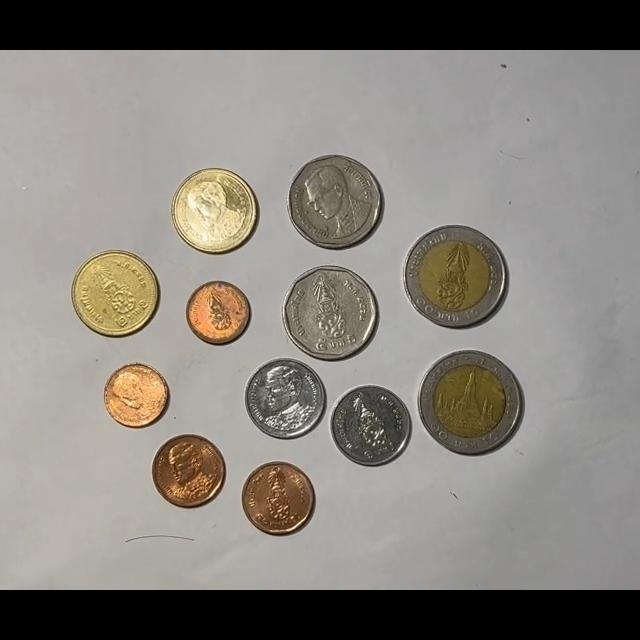1-baht: (330, 385, 412, 466), (245, 357, 325, 439)
10-baht: (418, 350, 523, 455), (403, 225, 509, 329)
2-baht: (171, 167, 260, 255), (73, 251, 159, 338)
25-satang: (104, 362, 170, 428), (186, 280, 251, 345)
5-baht: (282, 266, 379, 361), (287, 154, 384, 249)
50-satang: (152, 434, 226, 508), (241, 461, 314, 535)
